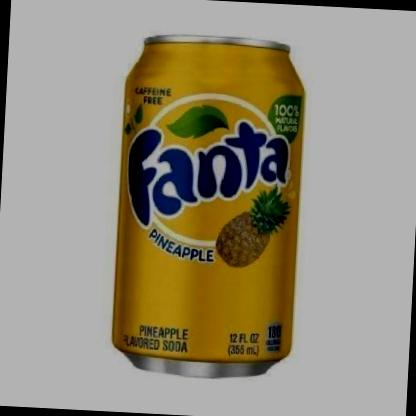alumunium_can: (109, 28, 310, 378)
